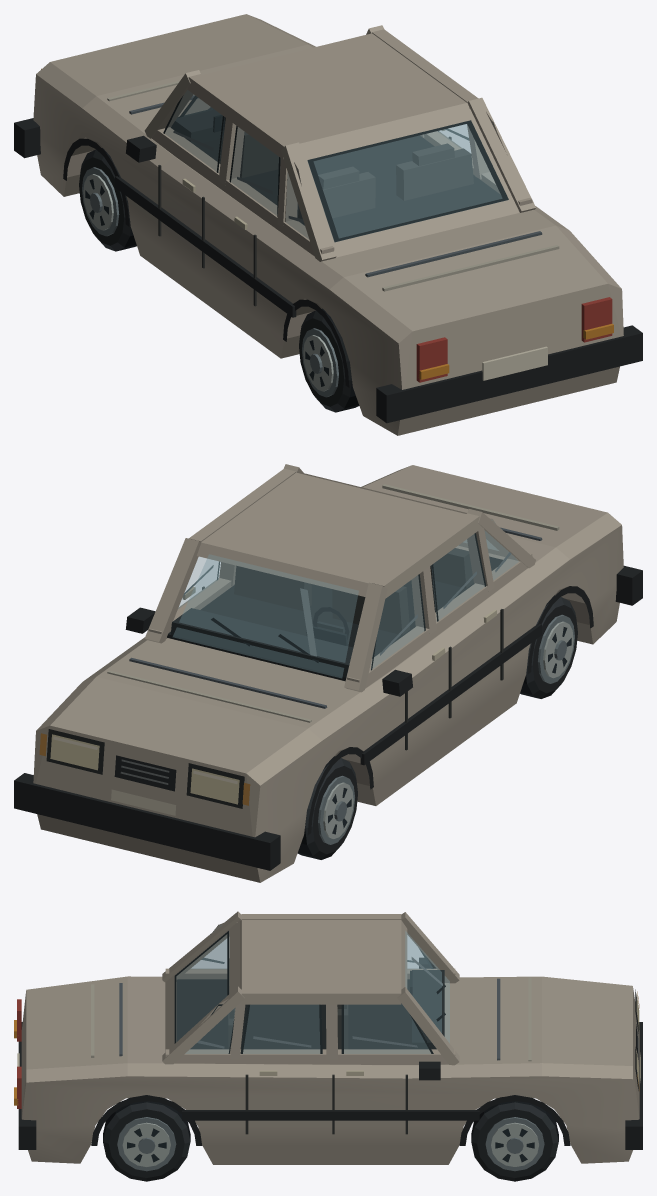
Rendered from berline_ivoire.glb.
The picture shows the model from 3 angles, top to bottom: view 1: azimuth 30°, elevation 25°; view 2: azimuth 150°, elevation 25°; view 3: azimuth 270°, elevation 25°; orthographic projection. The views are drawn at different scales.
Parts seen in each view (by area): view 1: proposition_berline_ivoire; view 2: proposition_berline_ivoire; view 3: proposition_berline_ivoire.
Part boxes in pixels (<box>): proposition_berline_ivoire: <box>14,14,642,435</box>; proposition_berline_ivoire: <box>14,464,642,882</box>; proposition_berline_ivoire: <box>14,911,642,1181</box>.
Size of the model in its own units: 1.96 by 1.5 by 4.65.
